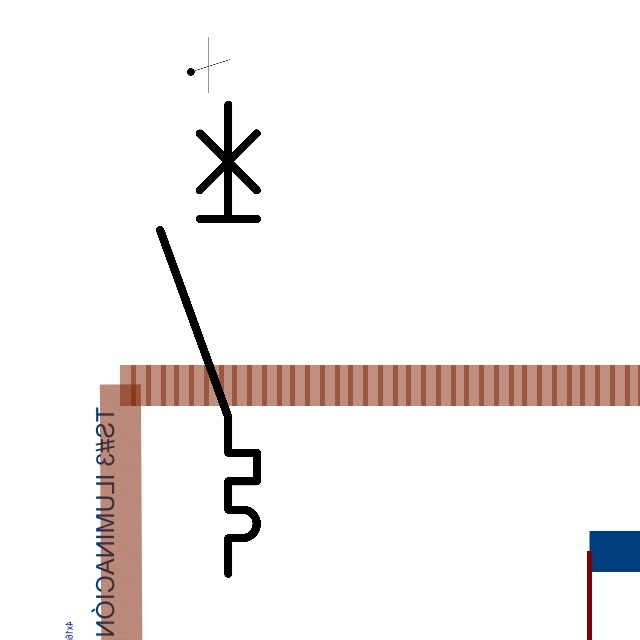interruptor_termomagnetico: (148, 92, 269, 585)
